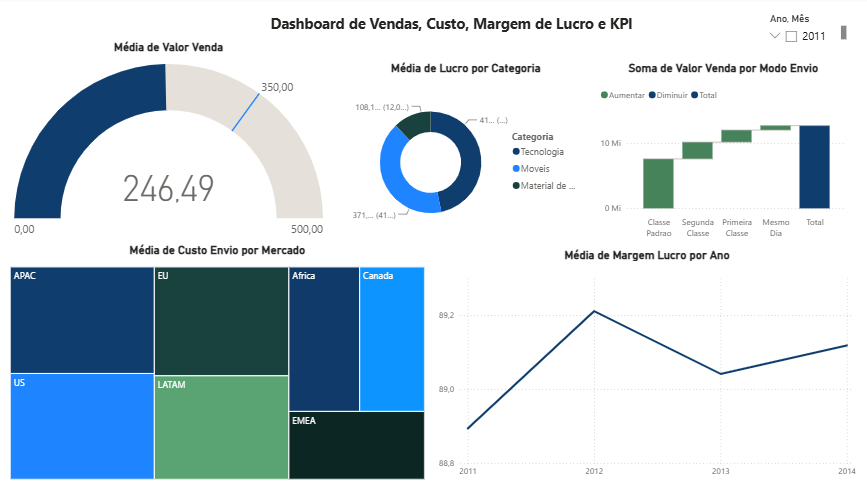

This screenshot's page, from the dashboard's own definition file:
{"tool":"powerbi","page":{"name":"Vendas, Custos e KPIs","canvas":[1280,720],"ordinal":0},"visuals":[{"type":"waterfallChart","fields":{"Category":["Pedidos.Modo Envio"],"Y":["Sum(Vendas.Valor Venda)"]},"box":[876.2,93.7,369.8,266.7],"z":0},{"type":"treemap","fields":{"Group":["Clientes.Mercado"],"Values":["Avg(Vendas.Custo Envio)"]},"box":[12.7,360.3,615.9,350.8],"z":1000},{"type":"gauge","fields":{"Y":["Avg(Vendas.Valor Venda)"]},"box":[12.7,63.5,473,296.8],"z":2000},{"type":"slicer","fields":{"Values":["Pedidos.Data Pedido.Variation.Hierarquia de datas.Ano","Pedidos.Data Pedido.Variation.Hierarquia de datas.Mês"]},"box":[1115.9,19,130.2,63.5],"z":3000},{"type":"donutChart","fields":{"Category":["Produtos.Categoria"],"Y":["Avg(Vendas.Lucro)"]},"box":[509.5,93.7,350.8,266.7],"z":4000},{"type":"lineChart","fields":{"Category":["Pedidos.Data Pedido.Variation.Hierarquia de datas.Ano","Pedidos.Data Pedido.Variation.Hierarquia de datas.Trimestre","Pedidos.Data Pedido.Variation.Hierarquia de datas.Mês","Pedidos.Data Pedido.Variation.Hierarquia de datas.Dia"],"Y":["Avg(Vendas.Margem Lucro)"]},"box":[639.7,366.7,620.6,344.4],"z":5000},{"type":"textbox","box":[393.7,19,584.1,44.4],"z":6000}]}

Visuals, with their boxes in screenshot pixels (x1, y1, x2, y2), scaled from the page's 1280x720 canvas onto the 867x484 screenshot:
waterfallChart - Pedidos.Modo Envio x Sum(Vendas.Valor Venda): x1=593, y1=63, x2=844, y2=242
treemap - Clientes.Mercado x Avg(Vendas.Custo Envio): x1=9, y1=242, x2=426, y2=478
gauge - Avg(Vendas.Valor Venda): x1=9, y1=43, x2=329, y2=242
slicer - Pedidos.Data Pedido.Variation.Hierarquia de datas.Ano x Pedidos.Data Pedido.Variation.Hierarquia de datas.Mês: x1=756, y1=13, x2=844, y2=55
donutChart - Produtos.Categoria x Avg(Vendas.Lucro): x1=345, y1=63, x2=583, y2=242
lineChart - Pedidos.Data Pedido.Variation.Hierarquia de datas.Ano x Pedidos.Data Pedido.Variation.Hierarquia de datas.Trimestre: x1=433, y1=247, x2=854, y2=478
textbox: x1=267, y1=13, x2=662, y2=43
